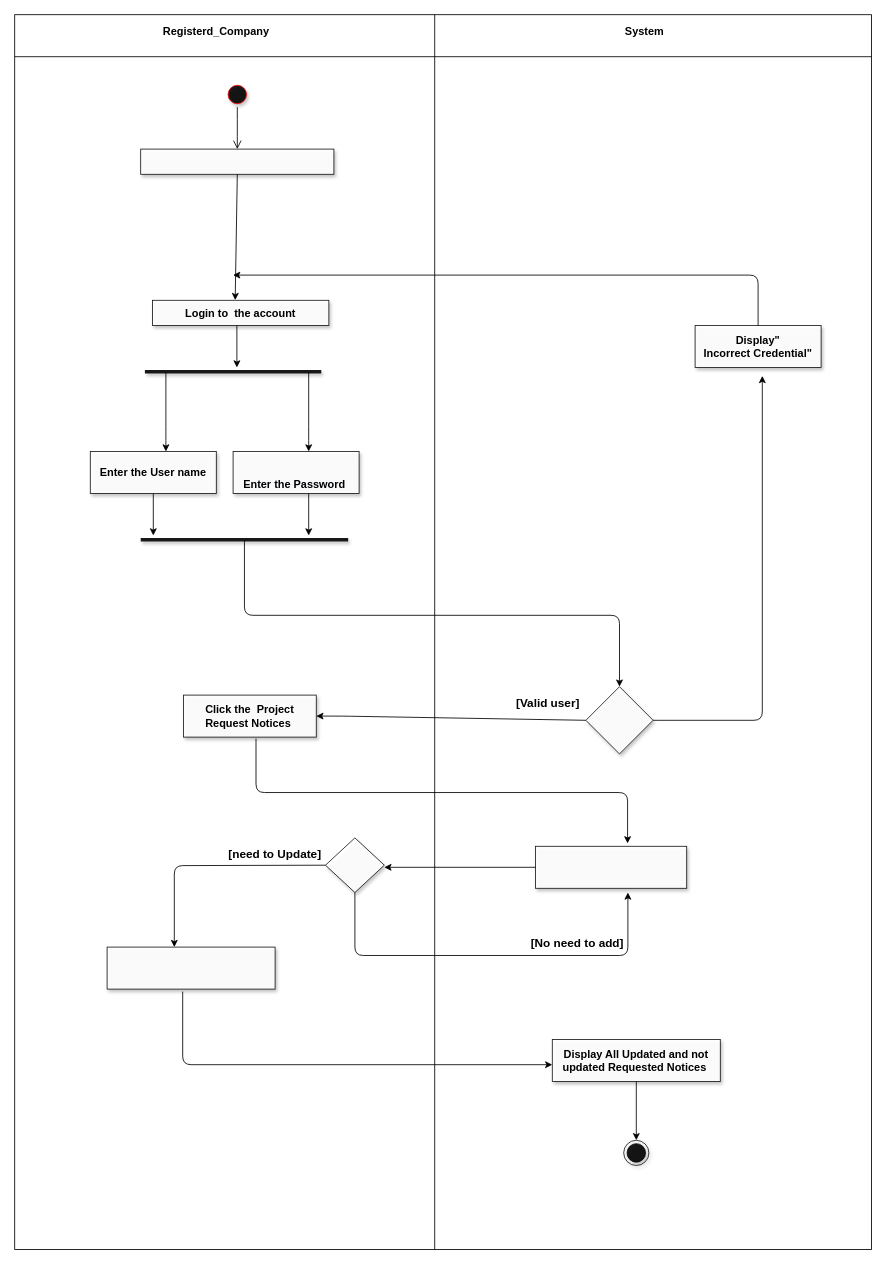
This 886x1264 diagram has some shape labels left out. The shapes that lost their labels are listed below. From the top down, each one's centre as x and y in pixels, then its label:
At (237,162): "Visit Web Site".
At (611,868): "Display Requested Notices".
At (191,969): "Update Project Requested Notices".
